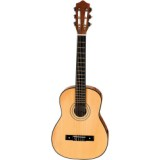guitar: (50, 1, 110, 160)
